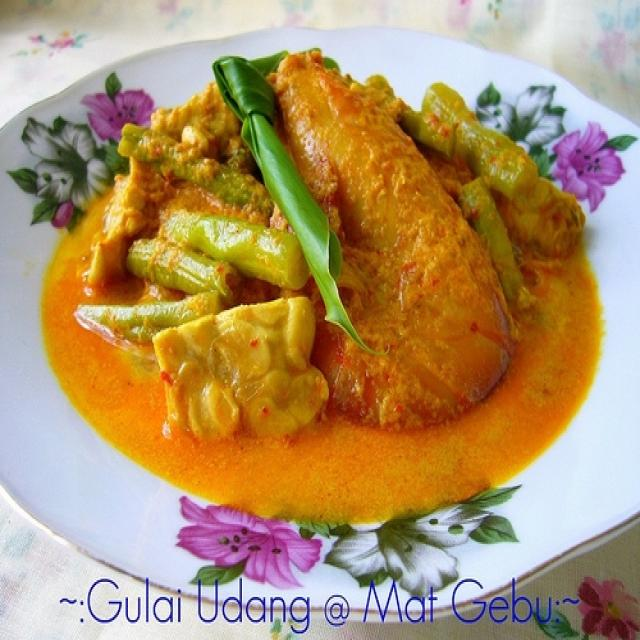熟制海鲜: (12, 28, 627, 607)
